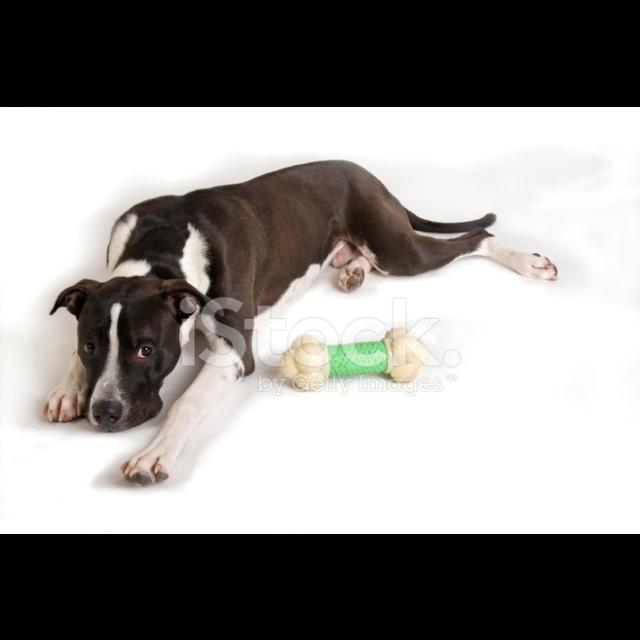am_pit_bull_terrier: (43, 158, 560, 487)
